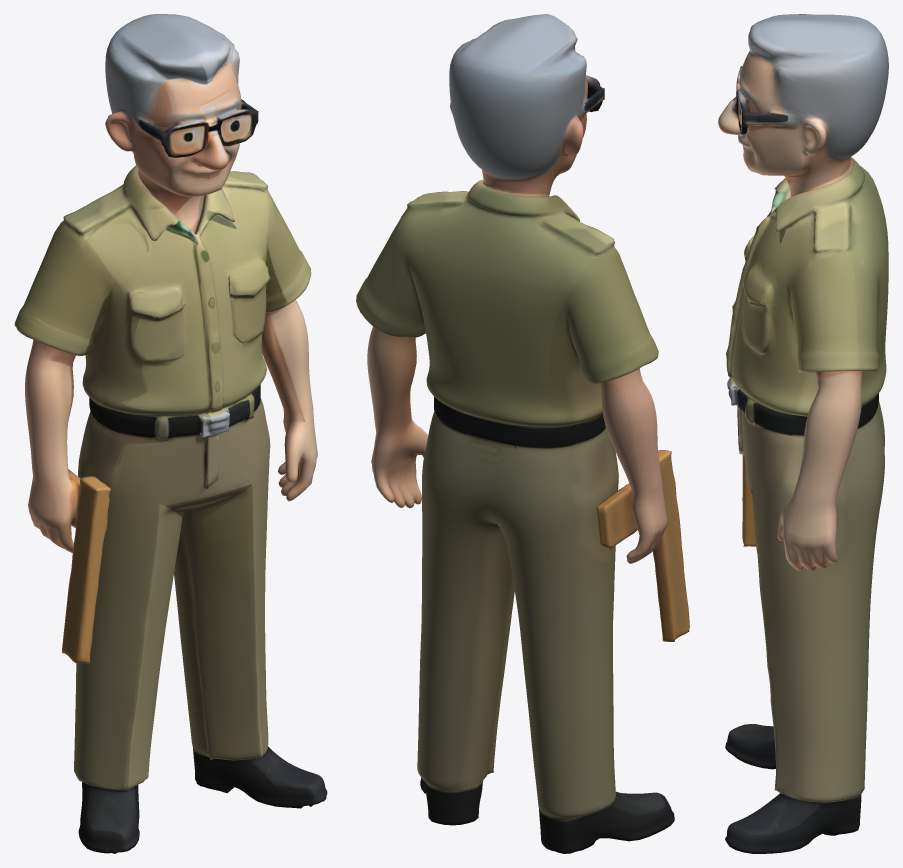
The model's file is npc_guru_bp.glb.
3 renders of one model, left to right at view 1: azimuth 30°, elevation 25°; view 2: azimuth 150°, elevation 25°; view 3: azimuth 270°, elevation 25°, orthographic. The views are drawn at different scales.
Parts seen in each view (by area): view 1: model; view 2: model; view 3: model.
Boxes of the visible parts, x1=… form: model: x1=14, y1=14, x2=327, y2=853; model: x1=356, y1=14, x2=689, y2=853; model: x1=718, y1=14, x2=888, y2=853.
Size of the model in its own units: 0.6656 by 1.72 by 0.3424.
Materials: 1 (1 with a texture image).
